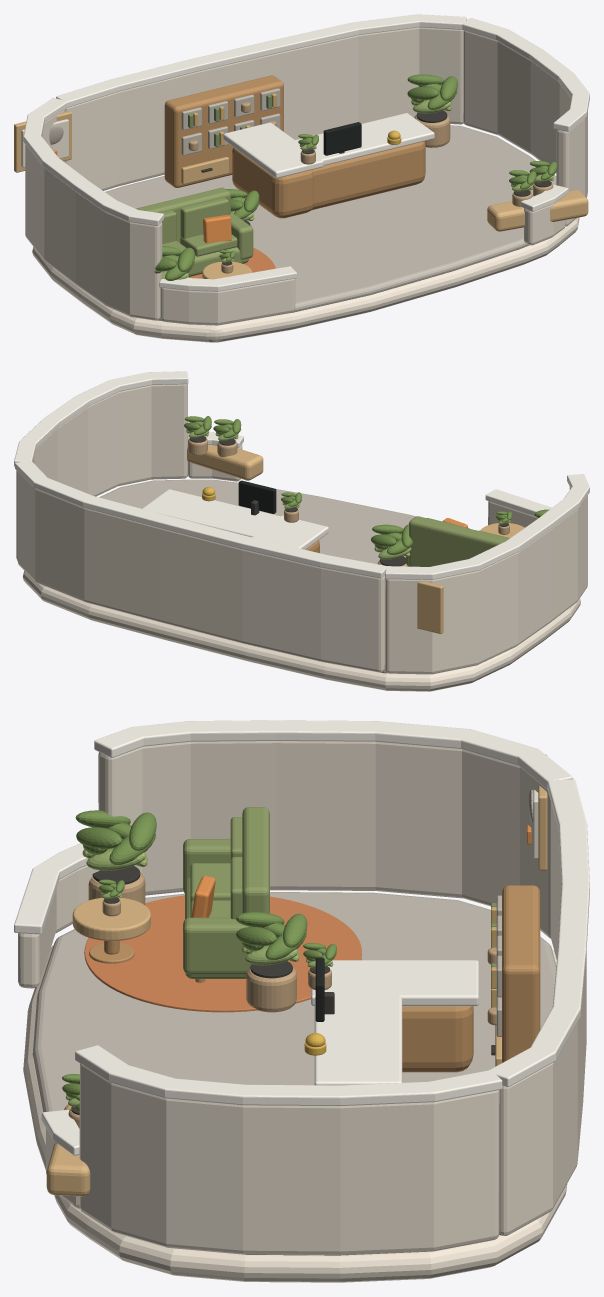
Rendered from room-reception.glb.
3 views of the same model, one above another, from view 1: azimuth 30°, elevation 25°; view 2: azimuth 150°, elevation 25°; view 3: azimuth 270°, elevation 25° (orthographic). The views are drawn at different scales.
Visible parts, largest first — view 1: ReceptionFloor_Base, OcclusionWall_Back, OcclusionWall_Left, OcclusionWall_Right, ReceptionFloor_Platform, OcclusionWall_BackCap, ReceptionStorage_Body, ReceptionDesk_Front, OcclusionWall_Front_00, OcclusionWall_LeftCap, ReceptionDesk_Return, OcclusionWall_RightCap (+20 smaller); view 2: OcclusionWall_Back, OcclusionWall_Left, OcclusionWall_Right, ReceptionFloor_Platform, ReceptionFloor_Base, OcclusionWall_BackCap, ReceptionDesk_Top, OcclusionWall_LeftCap, WaitingSofa_Back, OcclusionWall_RightCap, FrontPlanter, WallArt_Frame (+5 smaller); view 3: OcclusionWall_Right, OcclusionWall_Left, ReceptionFloor_Base, ReceptionFloor_Platform, OcclusionWall_Back, WaitingRug, OcclusionWall_LeftCap, OcclusionWall_BackCap, OcclusionWall_RightCap, ReceptionDesk_Top, ReceptionStorage_Body, ReceptionDesk_ReturnTop (+17 smaller).
Part boxes in pixels (bbox=[...]): ReceptionFloor_Base: bbox=[105, 125, 556, 320]; OcclusionWall_Back: bbox=[65, 27, 463, 190]; OcclusionWall_Left: bbox=[25, 109, 162, 320]; OcclusionWall_Right: bbox=[463, 30, 587, 226]; ReceptionFloor_Platform: bbox=[32, 217, 579, 342]; OcclusionWall_BackCap: bbox=[56, 14, 466, 107]; ReceptionStorage_Body: bbox=[164, 75, 283, 187]; ReceptionDesk_Front: bbox=[311, 141, 425, 210]; OcclusionWall_Front_00: bbox=[160, 278, 295, 325]; OcclusionWall_LeftCap: bbox=[23, 97, 163, 226]; ReceptionDesk_Return: bbox=[232, 147, 313, 218]; OcclusionWall_RightCap: bbox=[462, 18, 589, 131]; OcclusionWall_Back: bbox=[17, 472, 385, 672]; OcclusionWall_Left: bbox=[385, 487, 587, 674]; OcclusionWall_Right: bbox=[16, 384, 187, 560]; ReceptionFloor_Platform: bbox=[23, 571, 580, 691]; ReceptionFloor_Base: bbox=[99, 479, 415, 673]; OcclusionWall_BackCap: bbox=[15, 461, 387, 578]; ReceptionDesk_Top: bbox=[142, 489, 324, 546]; OcclusionWall_LeftCap: bbox=[385, 474, 589, 579]; WaitingSofa_Back: bbox=[409, 516, 509, 566]; OcclusionWall_RightCap: bbox=[14, 371, 188, 466]; FrontPlanter: bbox=[187, 445, 263, 480]; WallArt_Frame: bbox=[417, 582, 443, 634]; OcclusionWall_Right: bbox=[79, 1063, 499, 1255]; OcclusionWall_Left: bbox=[98, 741, 550, 938]; ReceptionFloor_Base: bbox=[32, 892, 556, 1255]; ReceptionFloor_Platform: bbox=[23, 945, 567, 1282]; OcclusionWall_Back: bbox=[499, 803, 586, 1235]; WaitingRug: bbox=[84, 895, 361, 1012]; OcclusionWall_LeftCap: bbox=[94, 720, 573, 789]; OcclusionWall_BackCap: bbox=[489, 779, 589, 1087]; OcclusionWall_RightCap: bbox=[75, 1045, 502, 1105]; ReceptionDesk_Top: bbox=[314, 973, 402, 1085]; ReceptionStorage_Body: bbox=[502, 885, 540, 1062]; ReceptionDesk_ReturnTop: bbox=[311, 960, 478, 1006].
Bounding box in the file's own units: 9.77 × 2.38 × 6.31.
